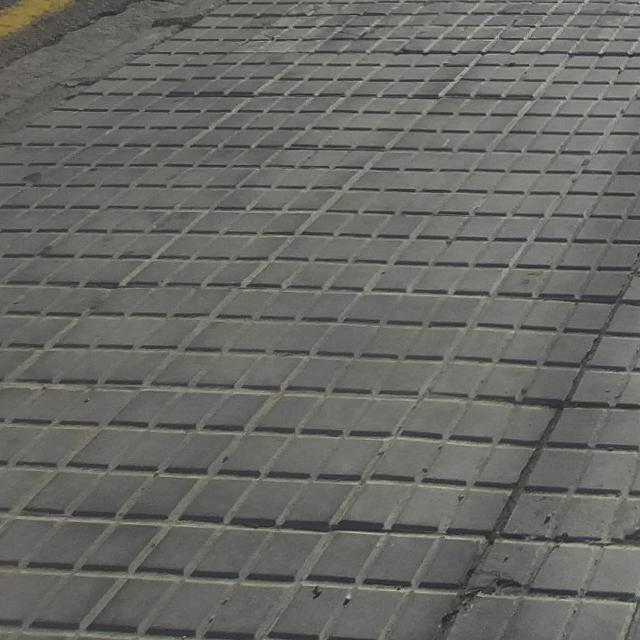calcada_quebrada: (435, 566, 537, 629)
